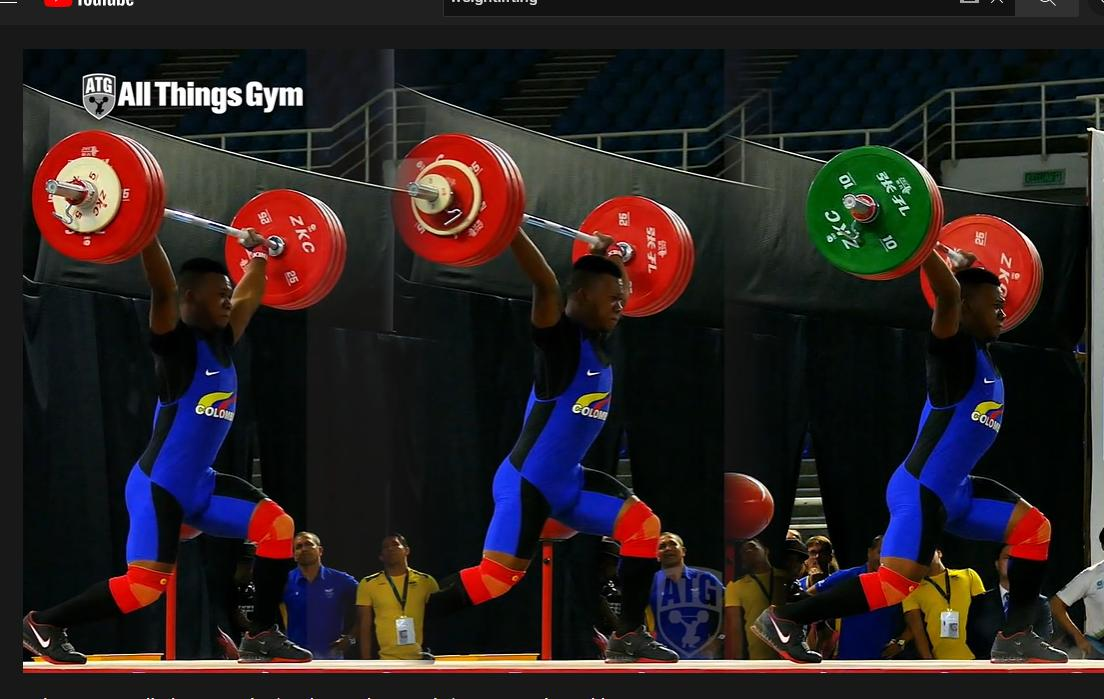Barbell: (39, 160, 128, 232), (393, 154, 466, 229), (828, 171, 895, 231)
